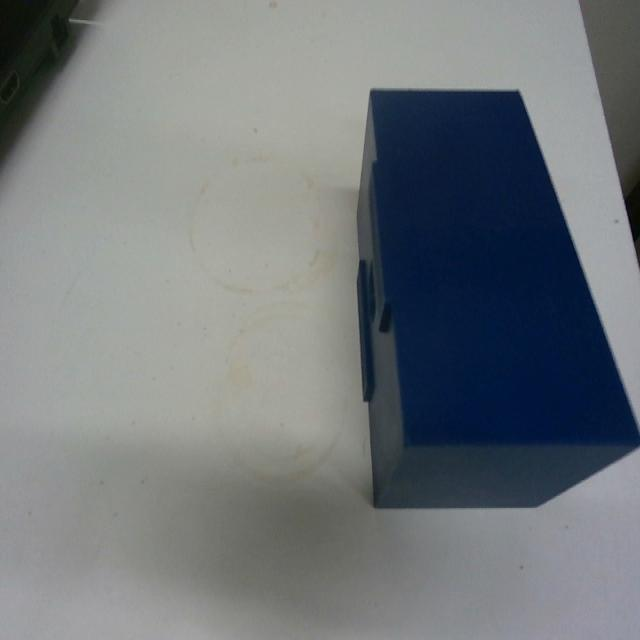Blue Cuboid: (353, 84, 639, 511)
